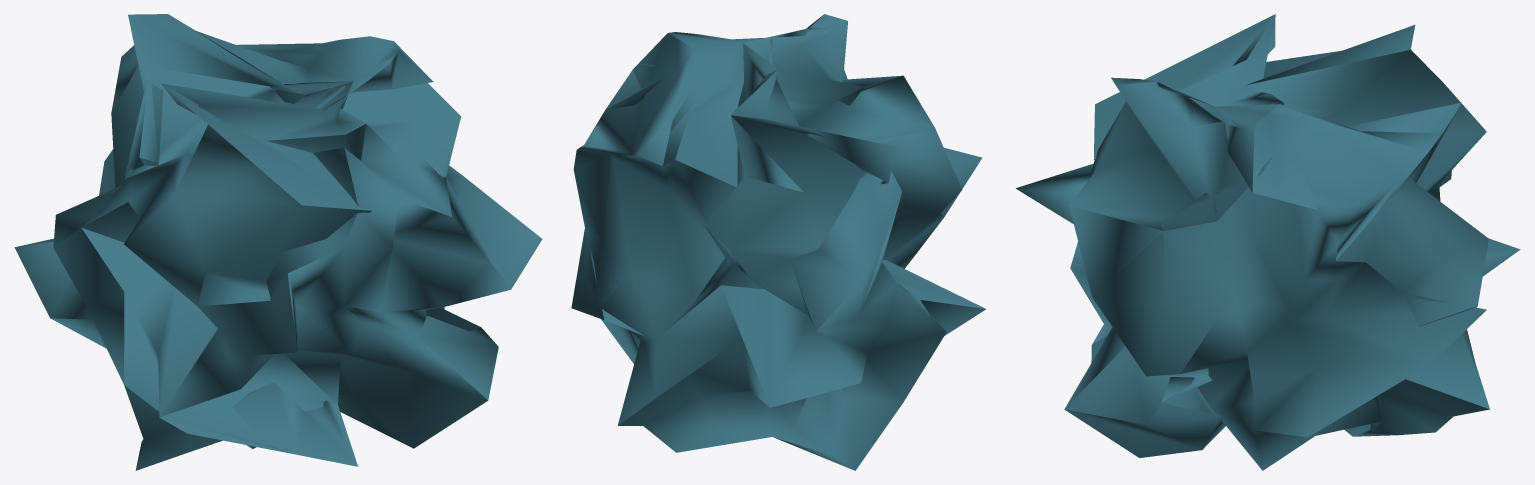
Rendered from SM_SmallTrashkit_Paper_004.fbx.
3 renders of one model, left to right at view 1: azimuth 30°, elevation 25°; view 2: azimuth 150°, elevation 25°; view 3: azimuth 270°, elevation 25°, orthographic. The views are drawn at different scales.
Visible parts, largest first — view 1: SM_SmallTrashkit_Paper_004; view 2: SM_SmallTrashkit_Paper_004; view 3: SM_SmallTrashkit_Paper_004.
Boxes of the visible parts, box(x1,y1,x2,y2) form: SM_SmallTrashkit_Paper_004: box(14, 14, 542, 470); SM_SmallTrashkit_Paper_004: box(571, 14, 986, 470); SM_SmallTrashkit_Paper_004: box(1016, 14, 1520, 470).
Bounding box in the file's own units: 16.39 × 15.74 × 17.96.
